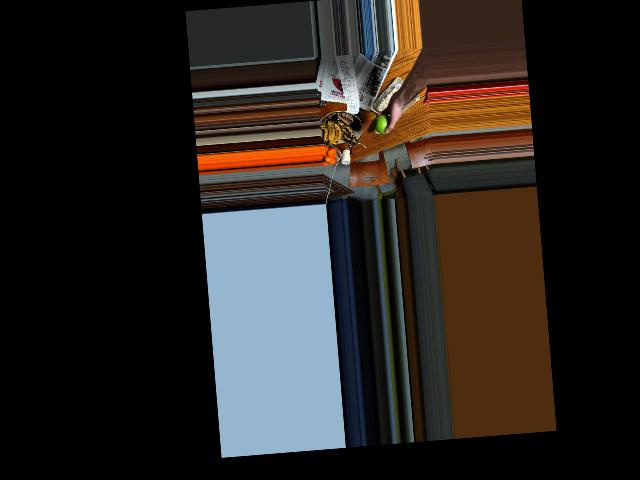apple: (372, 110, 394, 135)
